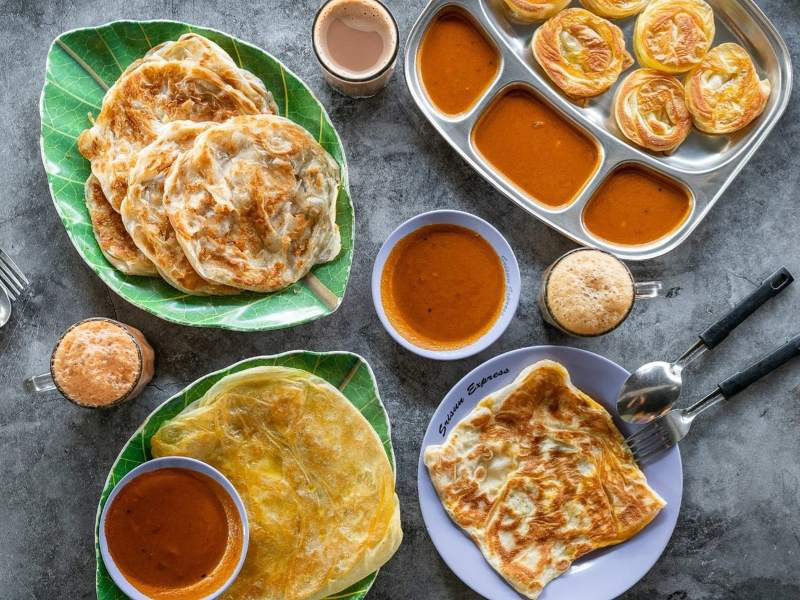Prata: (414, 359, 657, 589), (77, 33, 291, 293), (162, 366, 402, 590), (124, 125, 324, 298), (168, 117, 354, 288), (528, 16, 629, 102), (605, 65, 692, 157), (684, 48, 767, 138), (633, 9, 724, 67)
